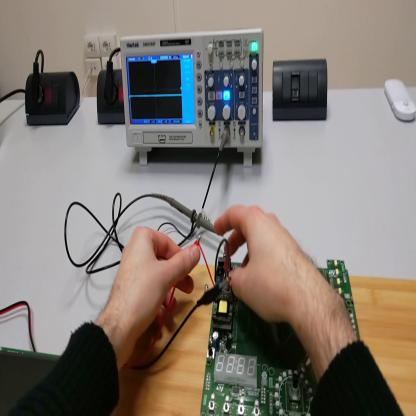hand: (216, 202, 307, 326), (110, 228, 201, 350)
low voltage board: (199, 246, 361, 416)
oscilloscope: (121, 28, 263, 170)
oscilloscope probe tip: (162, 188, 224, 236)
socket: (25, 72, 82, 130), (96, 68, 126, 128)
working area: (112, 263, 416, 416)
